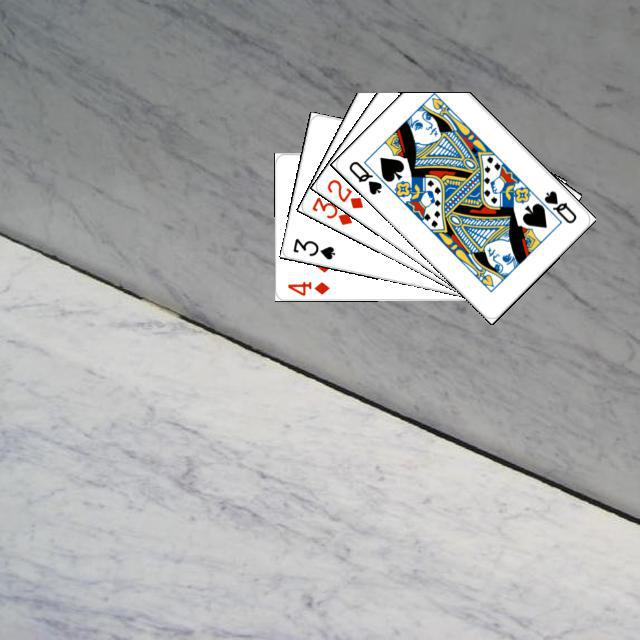2d: (322, 174, 365, 211)
3d: (307, 192, 354, 227)
3s: (288, 233, 337, 261)
4d: (283, 276, 331, 297)
Qs: (344, 156, 384, 196), (539, 186, 578, 225)
